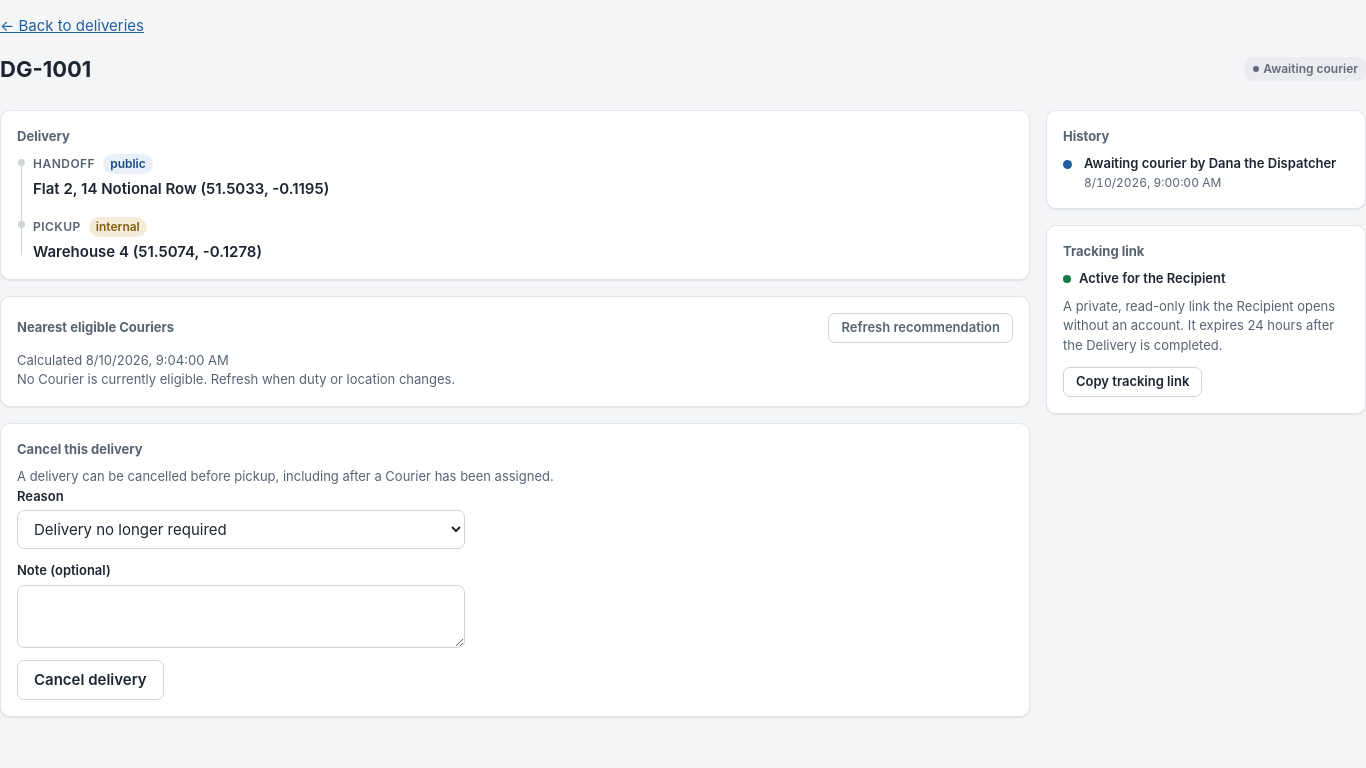
DeliveryDetailPage › explains a version conflict instead of overwriting the delivery
The image size is (1366, 768).
Click the button "Cancel delivery": (90, 680) [17,660,164,700]
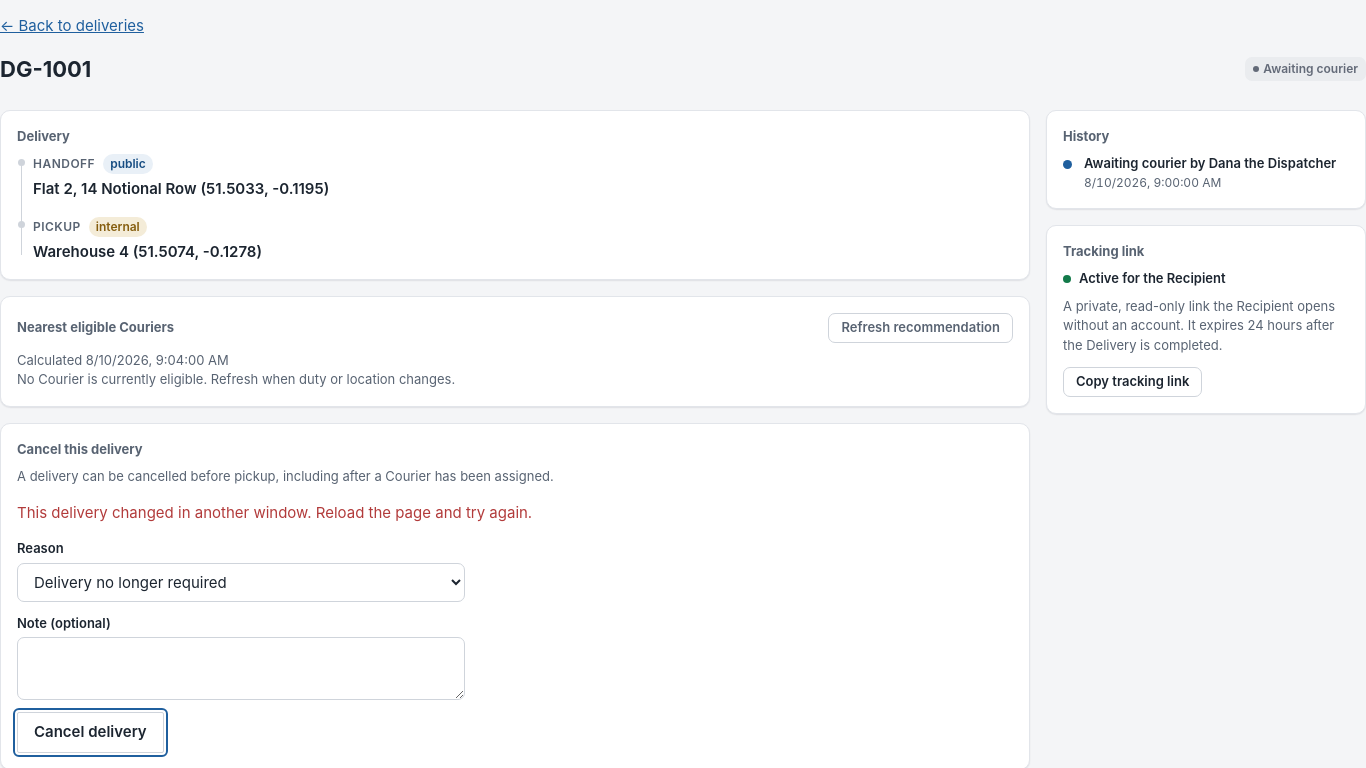
Now the message shows "This delivery changed in another window.", box [17,502,532,522]
